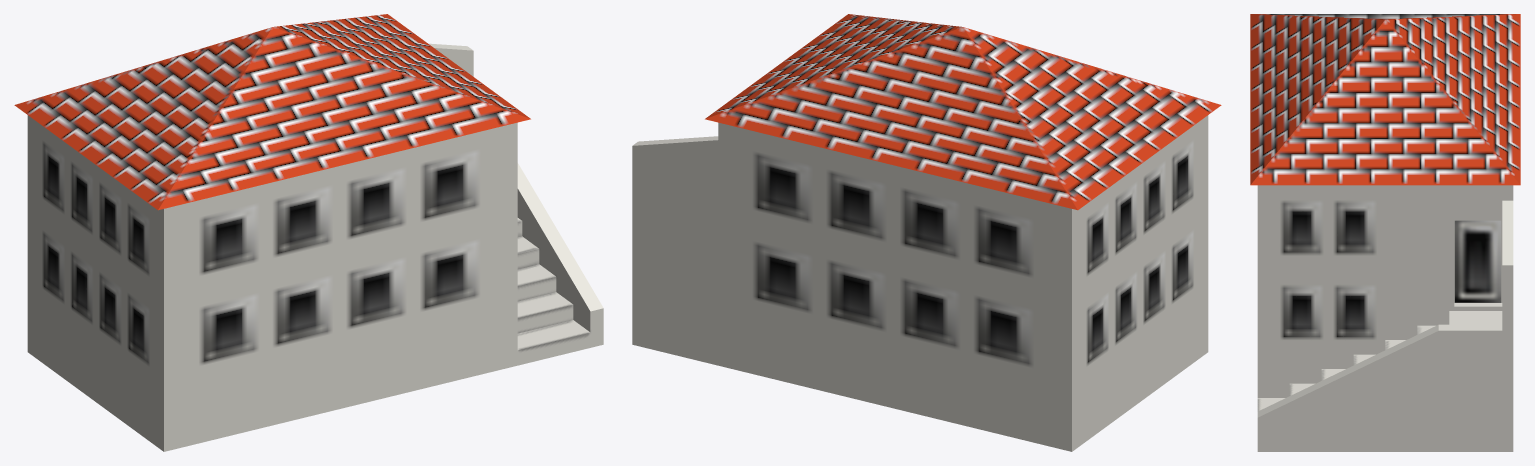
File: House02.fbx
The picture shows the model from 3 angles, left to right: view 1: azimuth 30°, elevation 25°; view 2: azimuth 150°, elevation 25°; view 3: azimuth 270°, elevation 25°; orthographic projection. The views are drawn at different scales.
Parts seen in each view (by area): view 1: House2; view 2: House2; view 3: House2.
Boxes of the visible parts, box(x1,y1,x2,y2) form: House2: box(14, 14, 603, 451); House2: box(632, 14, 1221, 451); House2: box(1250, 14, 1520, 451).
Bounding box in the file's own units: 763 × 538 × 422.
Materials: 1 (1 with a texture image).
